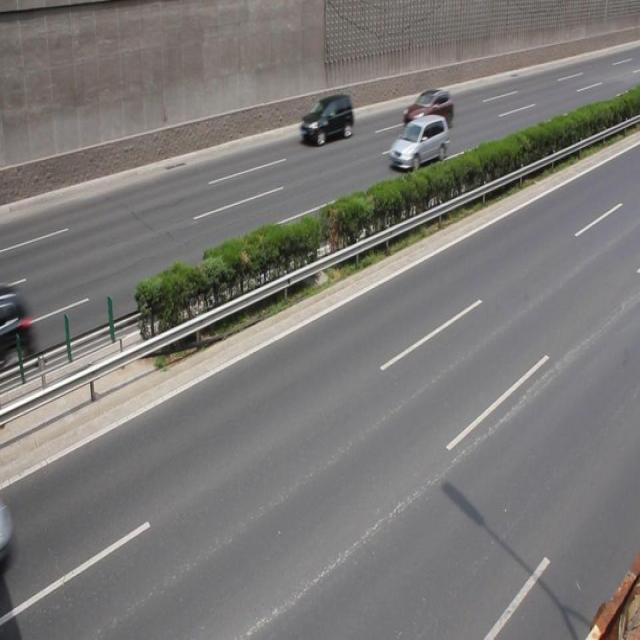car: (388, 114, 448, 175), (298, 97, 353, 145), (401, 87, 452, 136)
